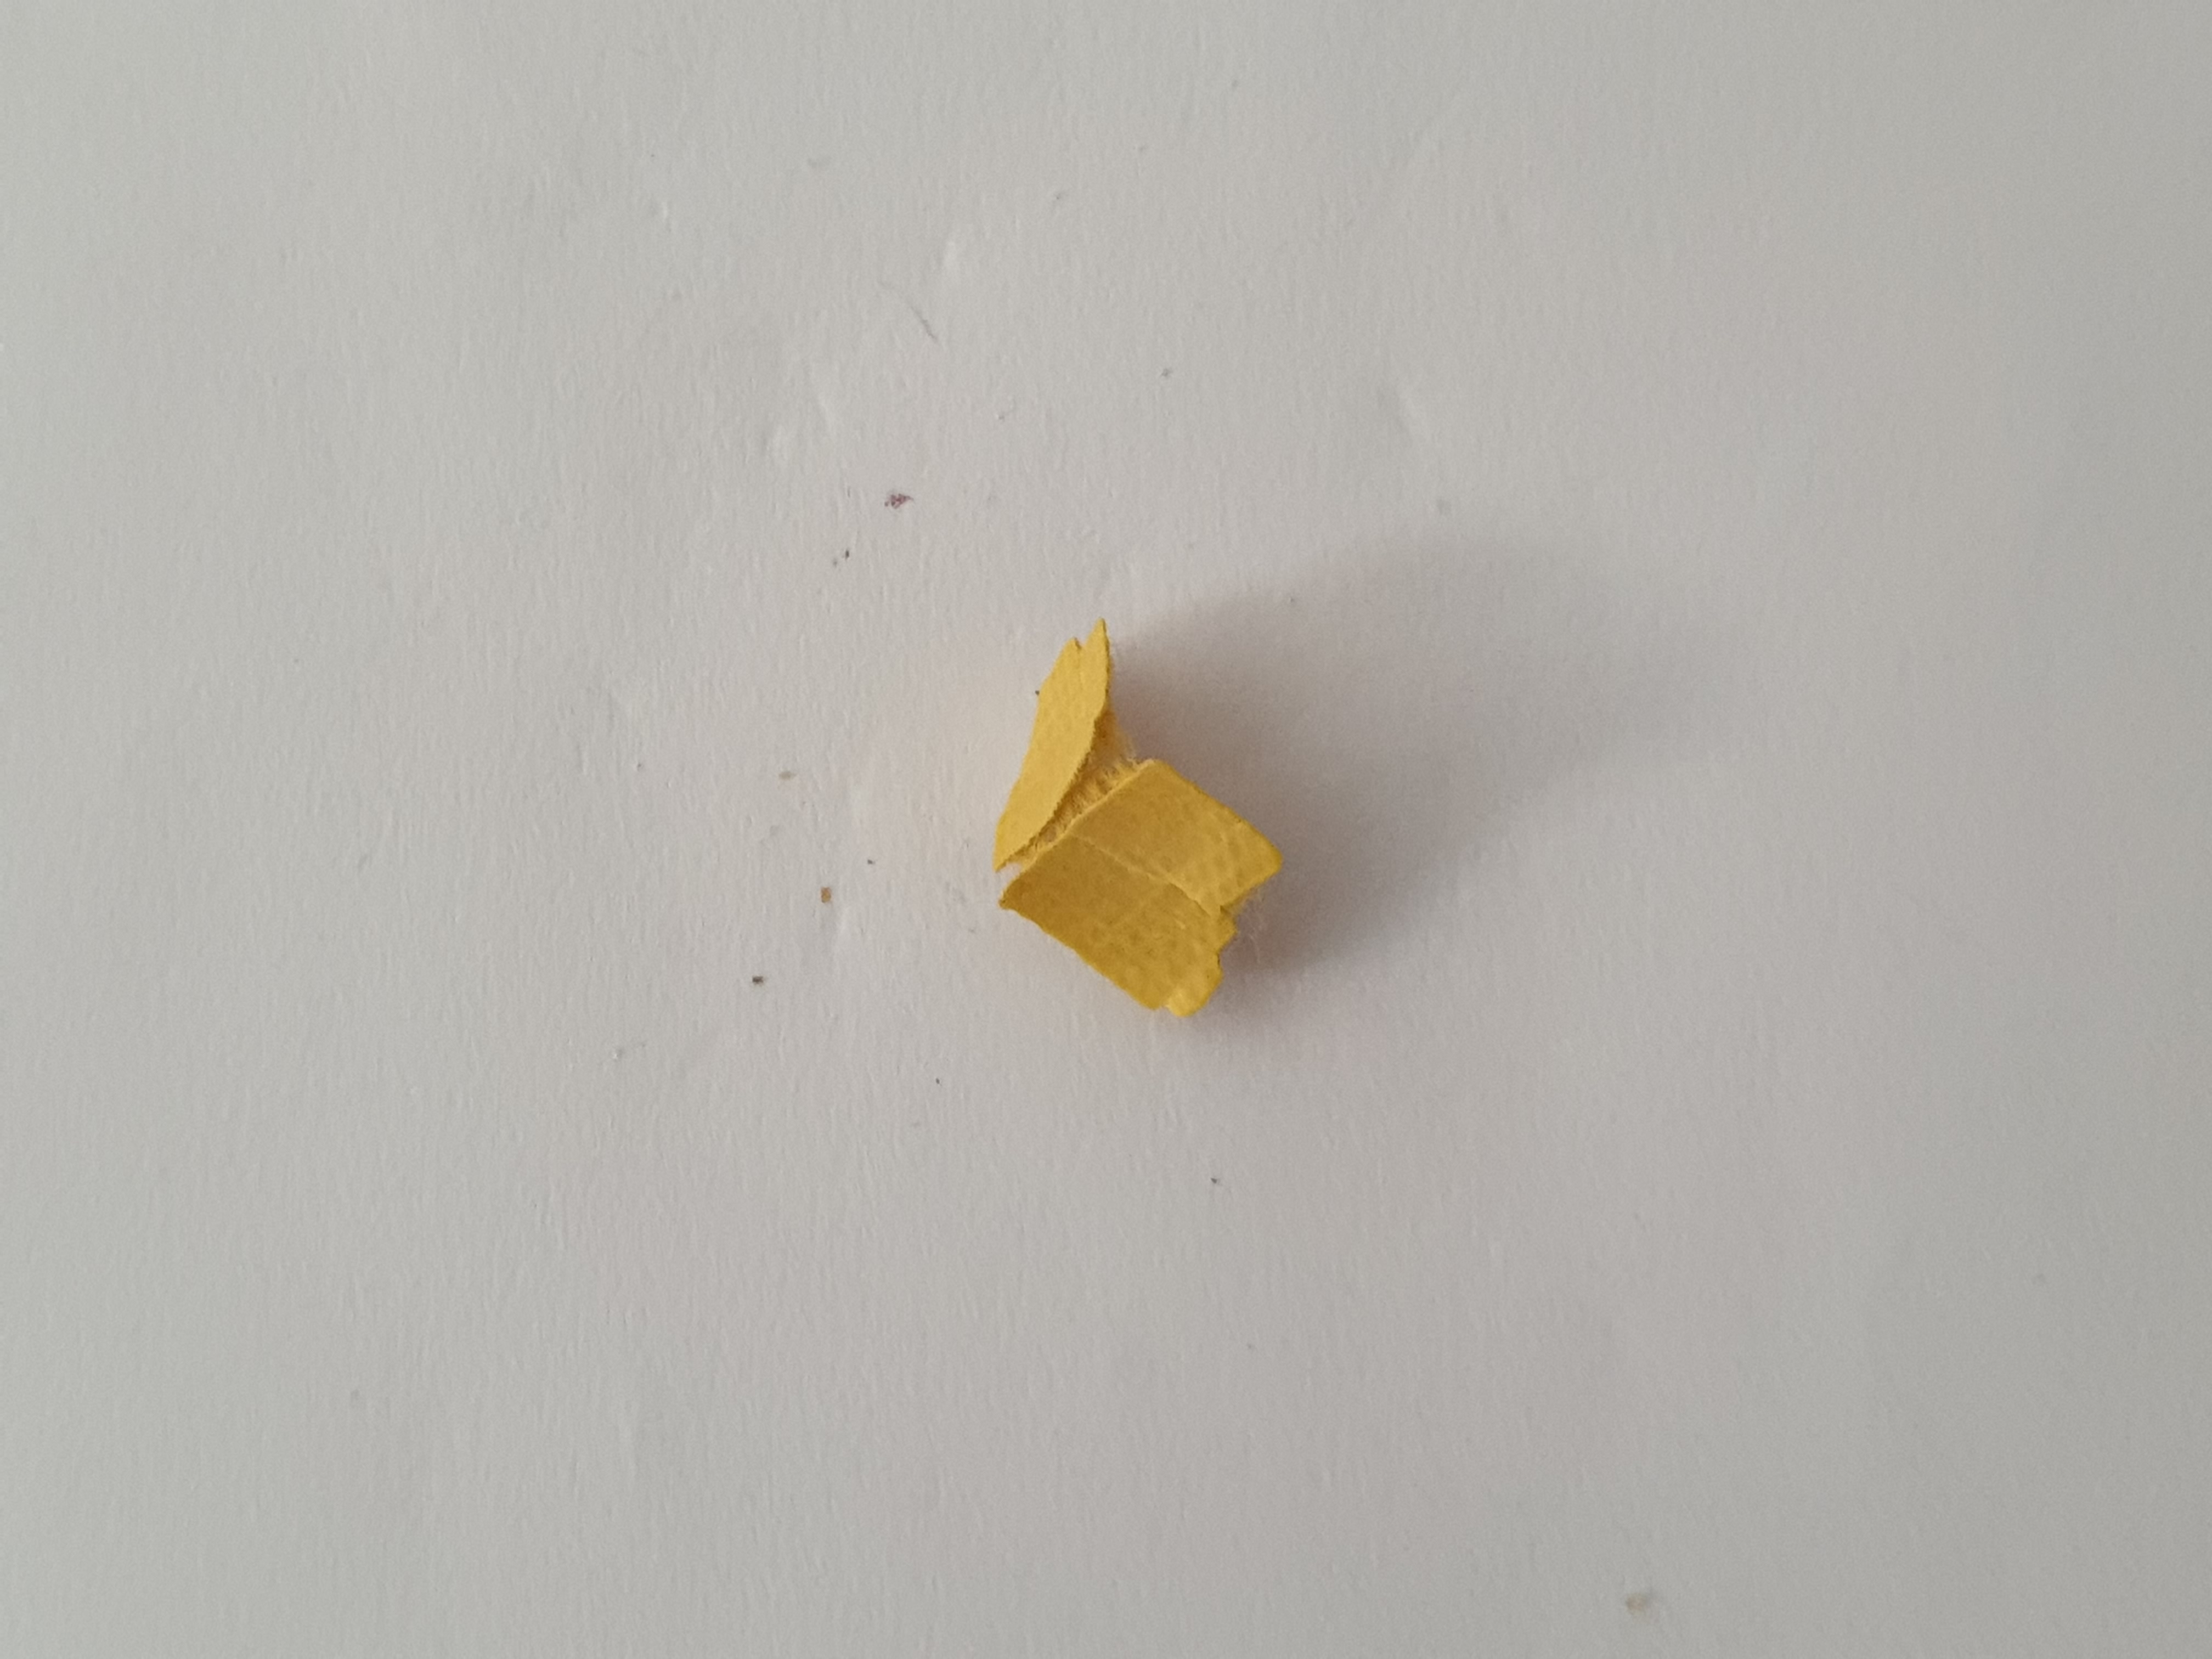plastic: (974, 619, 1292, 1032)
